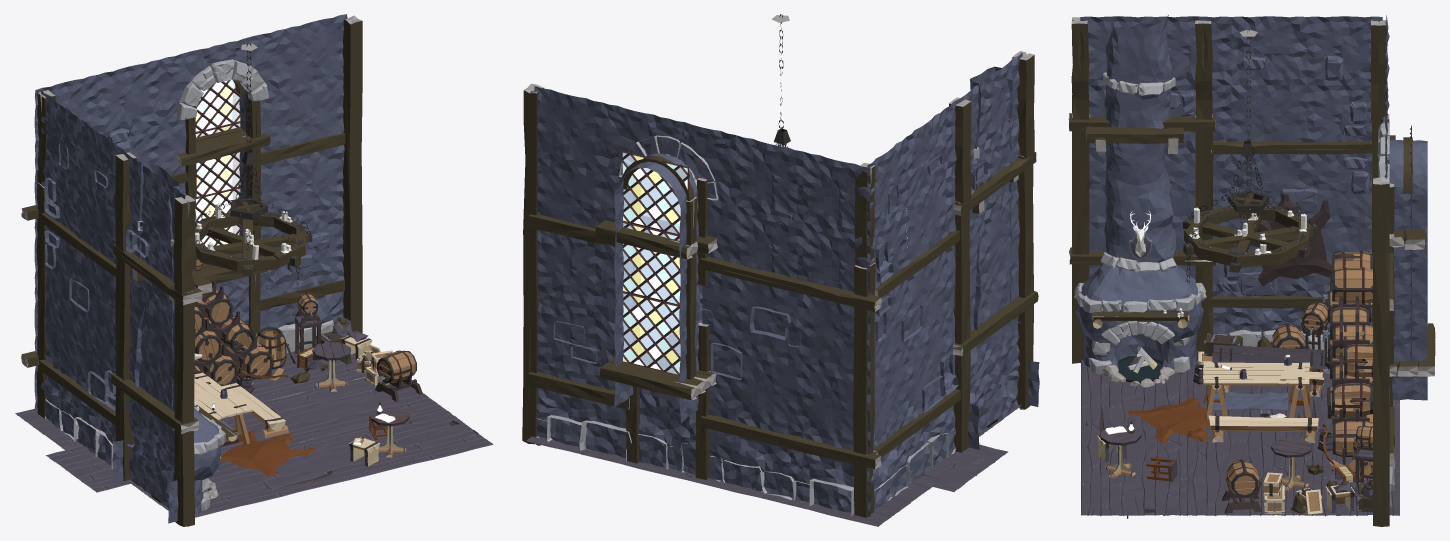
The model's file is low-poly_medieval_tavern.glb.
3 renders of one model, left to right at view 1: azimuth 30°, elevation 25°; view 2: azimuth 150°, elevation 25°; view 3: azimuth 270°, elevation 25°, orthographic. The views are drawn at different scales.
Parts seen in each view (by area): view 1: Box235_Material #7ss23_0, Box235_Material #734_0, Box235_Material #702_0, Box235_Material #433_0, Box235_Material #455_0, Box235_Material #73423_0, Box235_Material #7333_0 (×2), Box235_Material #70_0, Box235_Material #7023_0, Box235_Material #453_0, Box235_Material #33323_0, Box235_Material #7033_0 (+3 smaller); view 2: Box235_Material #7ss23_0, Box235_Material #734_0, Box235_Material #7333_0 (×2), Box235_Material #702_0, Box235_Material #33323_0, Box235_Material #73423_0, Box235_04 - Default_0, Box235_07 - Default_0, Box235_Material #33_0, Box235_Material #4256_0; view 3: Box235_Material #7ss23_0, Box235_Material #734_0, Box235_Material #702_0, Box235_Material #455_0, Box235_Material #433_0, Box235_Material #73423_0, Box235_Material #7023_0, Box235_Material #70_0, Box235_Material #453_0, Box235_Material #7333_0, Box235_Material #4333_0, Box235_Material #7033_0 (+4 smaller).
Part boxes in pixels (x1,y1,x2,y2): Box235_Material #7ss23_0: (34, 14, 346, 523); Box235_Material #734_0: (22, 20, 412, 526); Box235_Material #702_0: (15, 314, 493, 517); Box235_Material #433_0: (194, 43, 416, 456); Box235_Material #455_0: (194, 259, 415, 456); Box235_Material #73423_0: (45, 59, 333, 510); Box235_Material #7333_0 (×2): (21, 15, 362, 446); Box235_Material #70_0: (194, 335, 406, 457); Box235_Material #7023_0: (194, 238, 457, 488); Box235_Material #453_0: (220, 342, 409, 476); Box235_Material #33323_0: (195, 82, 240, 245); Box235_Material #7033_0: (224, 342, 403, 466); Box235_Material #7ss23_0: (534, 52, 1039, 516); Box235_Material #734_0: (522, 55, 1038, 517); Box235_Material #7333_0 (×2): (524, 15, 1033, 468); Box235_Material #702_0: (526, 333, 1021, 526); Box235_Material #33323_0: (622, 152, 686, 374); Box235_Material #73423_0: (536, 119, 1010, 520); Box235_04 - Default_0: (622, 163, 687, 373); Box235_07 - Default_0: (623, 155, 679, 363); Box235_Material #33_0: (632, 168, 687, 369); Box235_Material #4256_0: (622, 152, 689, 375); Box235_Material #7ss23_0: (1076, 15, 1427, 409); Box235_Material #734_0: (1069, 23, 1435, 526); Box235_Material #702_0: (1081, 234, 1399, 518); Box235_Material #455_0: (1100, 251, 1372, 511); Box235_Material #433_0: (1098, 29, 1372, 511); Box235_Material #73423_0: (1073, 72, 1394, 506); Box235_Material #7023_0: (1086, 193, 1372, 513); Box235_Material #70_0: (1096, 351, 1354, 514); Box235_Material #453_0: (1101, 344, 1355, 482); Box235_Material #7333_0: (1068, 17, 1434, 464); Box235_Material #4333_0: (1215, 251, 1372, 483); Box235_Material #7033_0: (1092, 313, 1352, 512).
Bounding box in the file's own units: 7.07 × 7.45 × 6.03.
